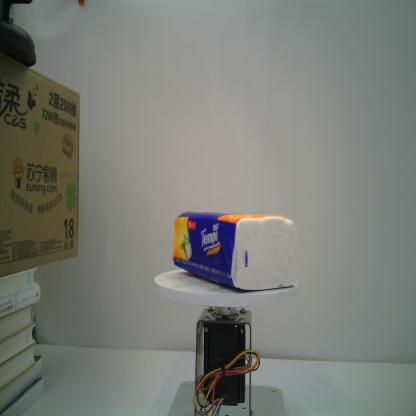Tissue: (170, 207, 300, 292)
